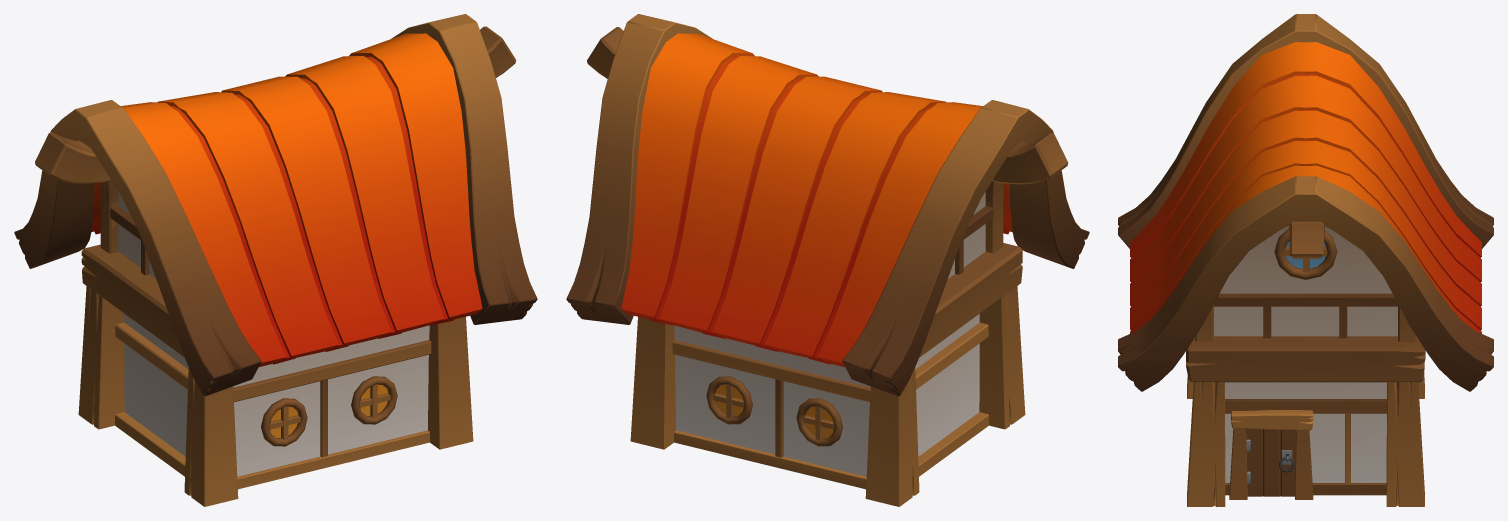
The model's file is obj_House2.fbx.
3 views of the same model, side by side, from view 1: azimuth 30°, elevation 25°; view 2: azimuth 150°, elevation 25°; view 3: azimuth 270°, elevation 25° (orthographic). The views are drawn at different scales.
Visible parts, largest first — view 1: obj_House2; view 2: obj_House2; view 3: obj_House2.
Boxes of the visible parts, x1,y1,x2,y2 form: obj_House2: (14,14,537,506); obj_House2: (566,14,1089,506); obj_House2: (1118,14,1493,506).
Bounding box in the file's own units: 310 × 231 × 230.
